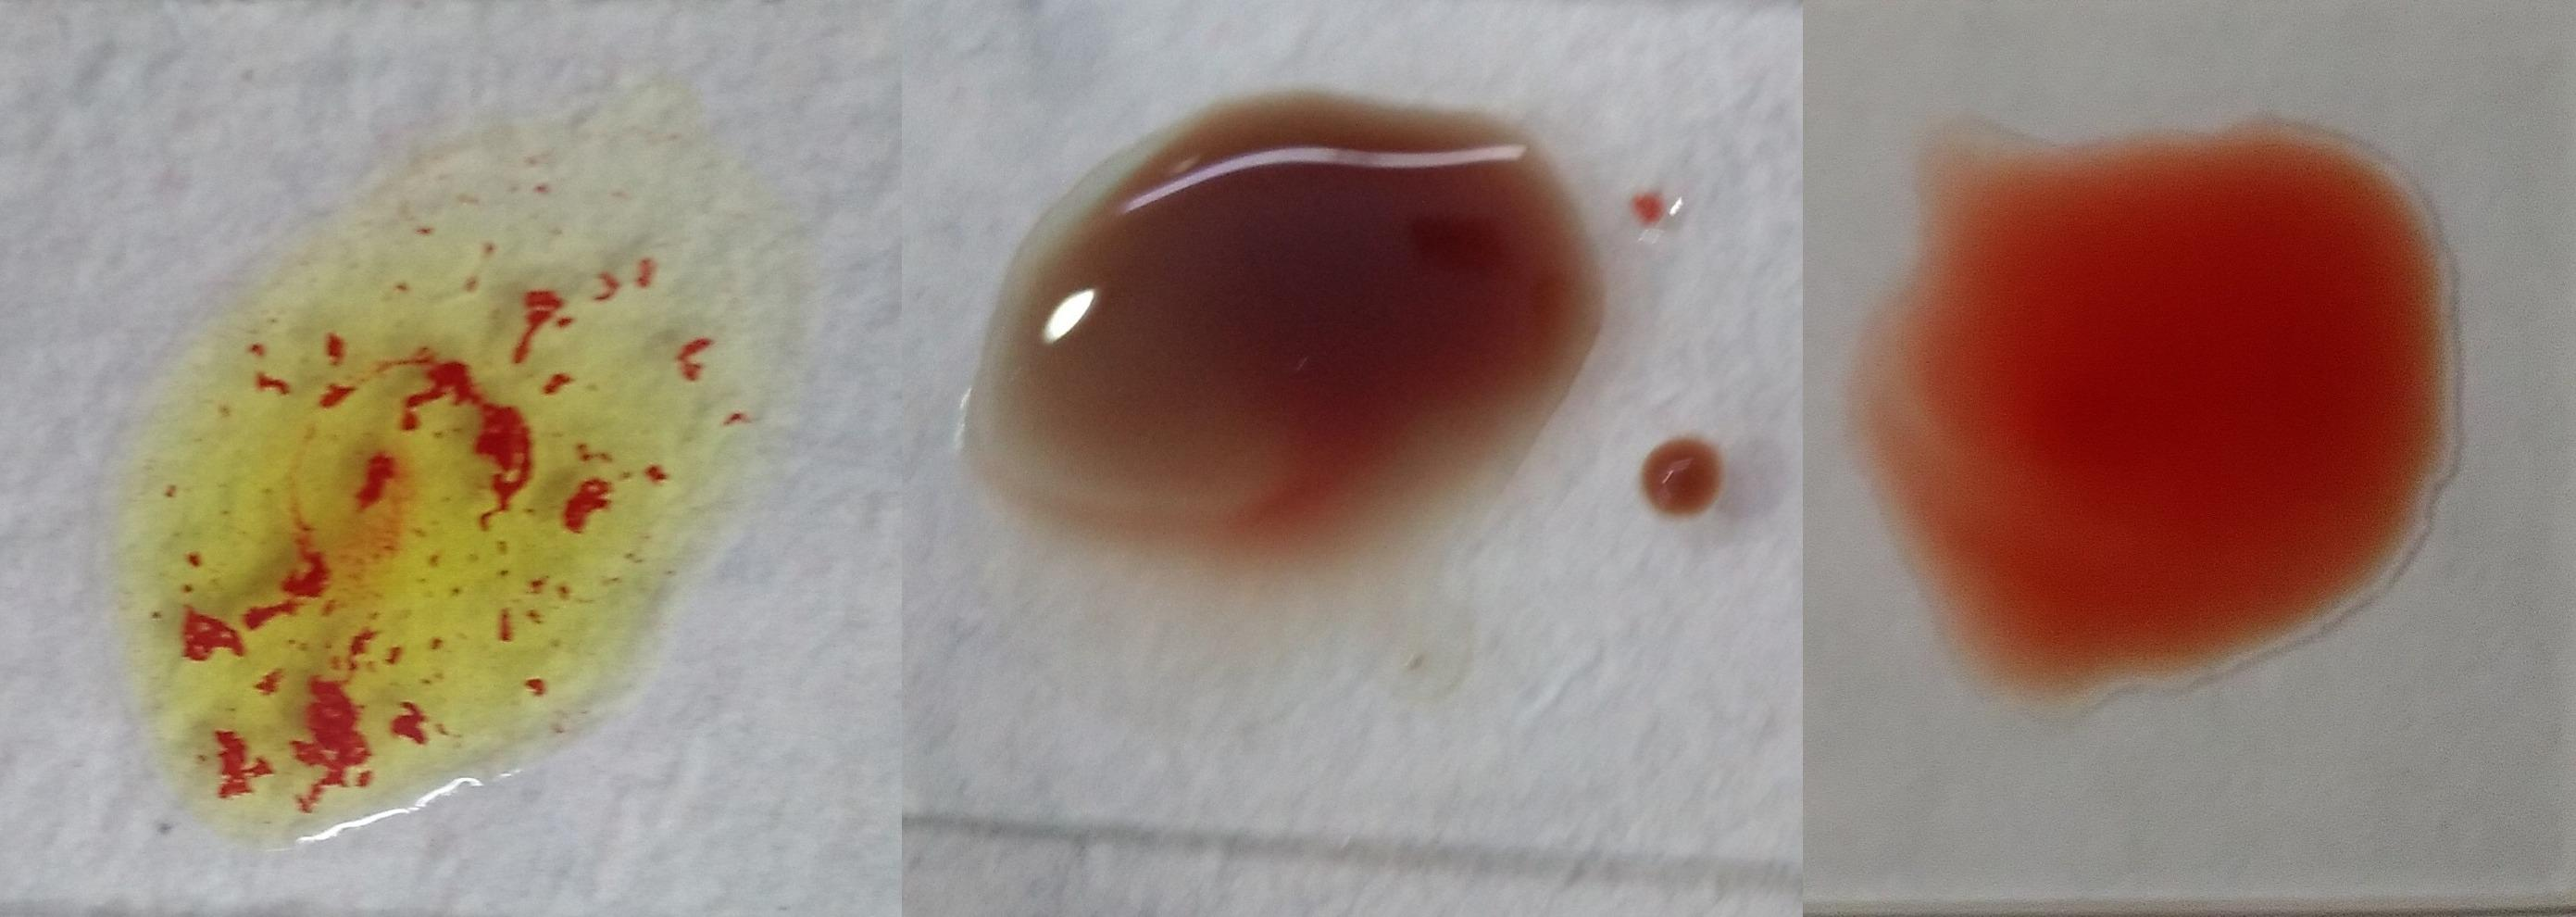B: (117, 136, 700, 838)
